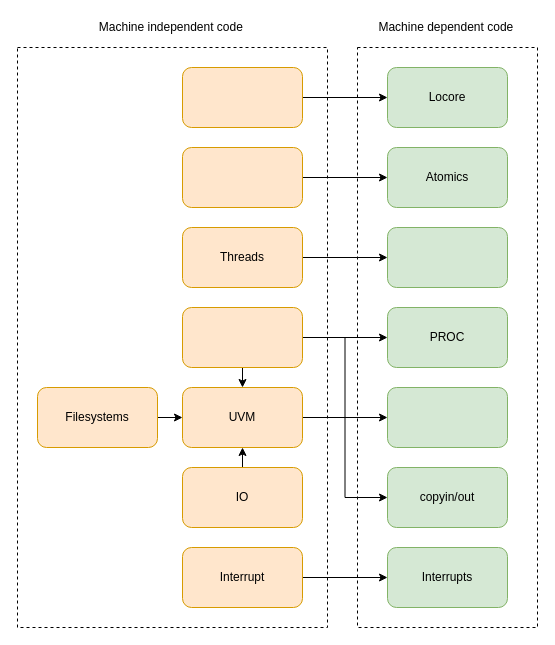
This 555x645 diagram has some shape labels left out. The centre of each missing label's shape, as x and y in pixels:
"Initialisation" belongs at (x=242, y=97).
"Locks" belongs at (x=242, y=177).
"PMAP" belongs at (x=447, y=417).
"Processes" belongs at (x=242, y=337).
"Thread" belongs at (x=447, y=257).
